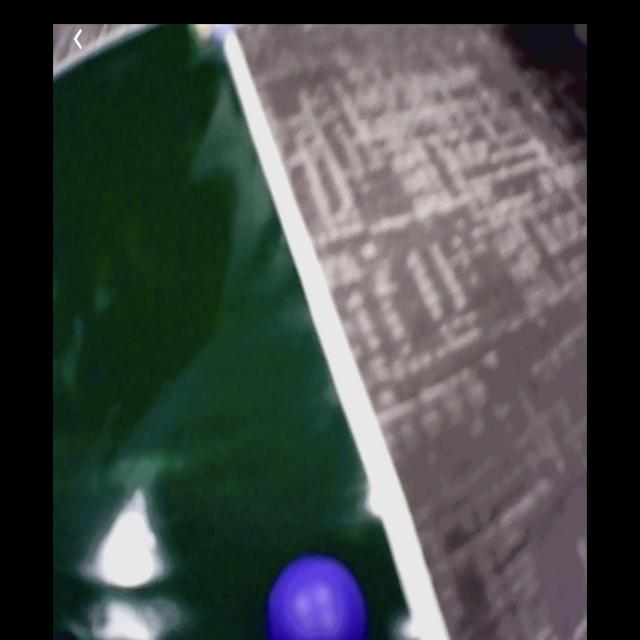ball: (269, 559, 370, 640)
